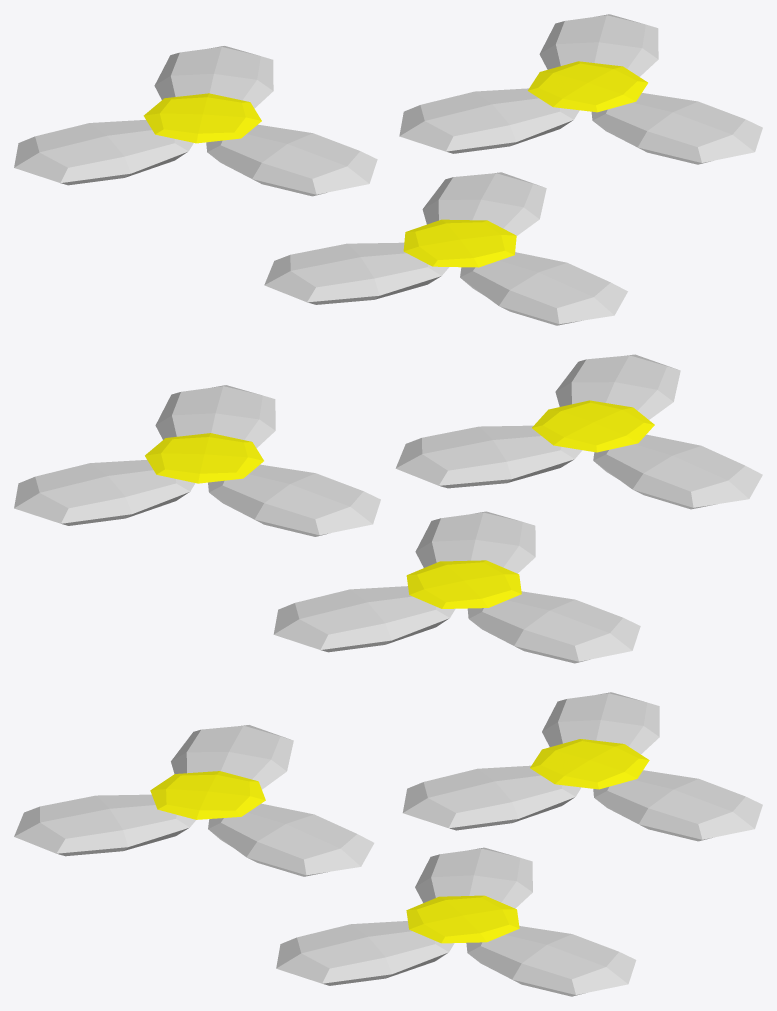
The model's file is Flowers.glb.
3 renders of one model, top to bottom at view 1: azimuth 30°, elevation 25°; view 2: azimuth 150°, elevation 25°; view 3: azimuth 270°, elevation 25°, orthographic.
Parts seen in each view (by area): view 1: Flowers; view 2: Flowers; view 3: Flowers.
Boxes of the visible parts, left/top/right/bottom form: Flowers: left=14, top=14, right=762, bottom=325; Flowers: left=14, top=354, right=762, bottom=663; Flowers: left=14, top=692, right=762, bottom=996.
Bounding box in the file's own units: 2.4 × 0.1205 × 2.51.
